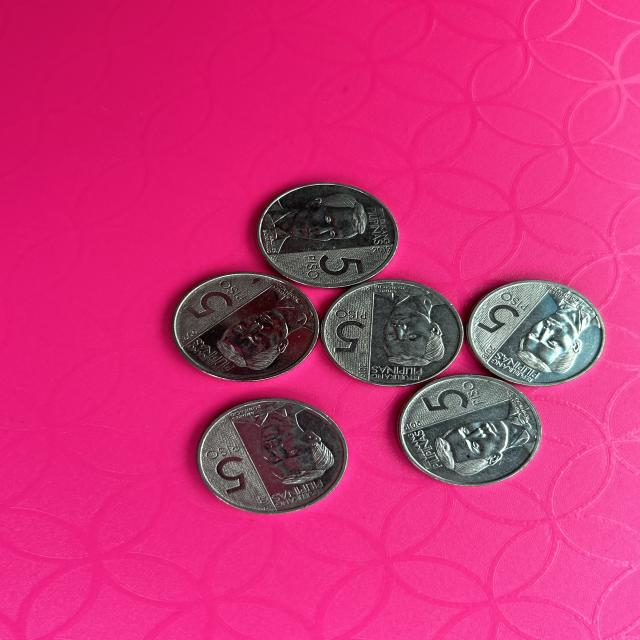5_New_Front: (190, 436, 266, 504), (174, 274, 247, 328), (321, 305, 380, 371), (294, 244, 382, 286), (410, 374, 488, 418), (476, 285, 534, 338)
